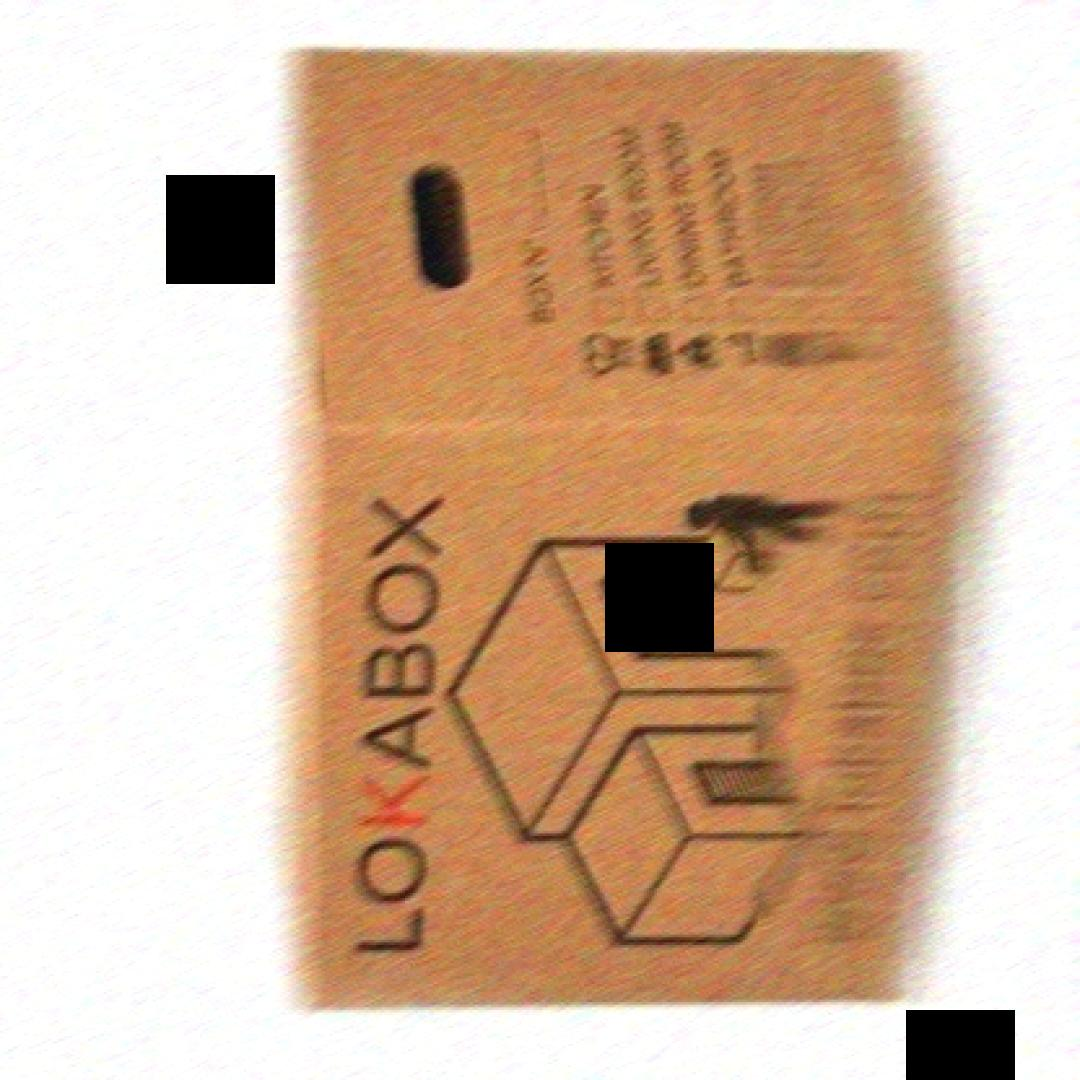package: (296, 49, 974, 992)
